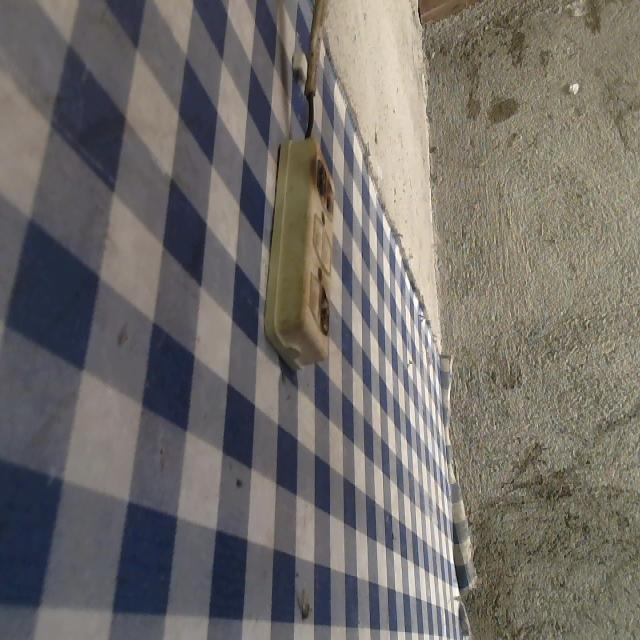-: (308, 151, 335, 221), (317, 282, 331, 338)
